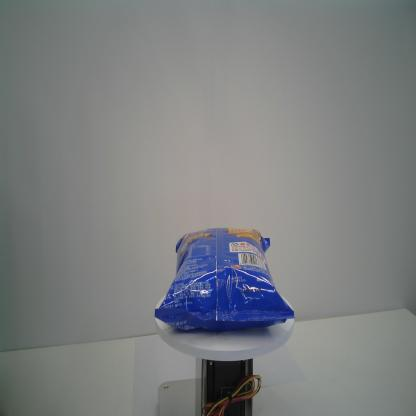Puffed Food: (153, 227, 295, 333)
